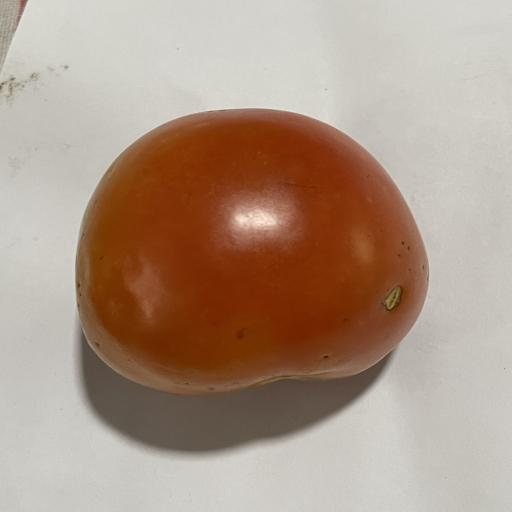ripe: (76, 109, 429, 396)
